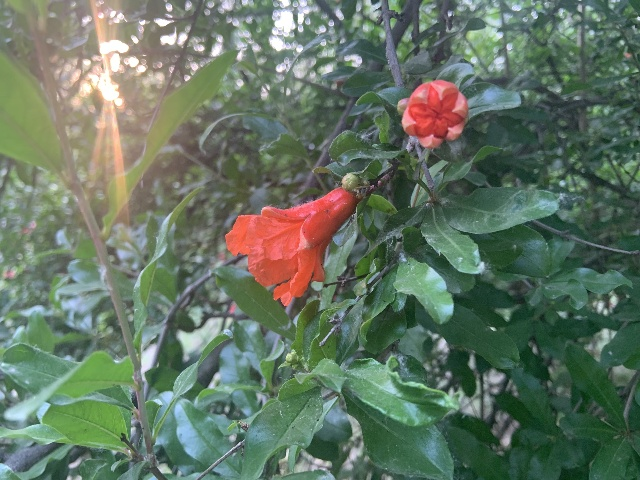bud: (341, 173, 362, 193)
flower: (224, 186, 358, 306), (399, 79, 468, 148)
